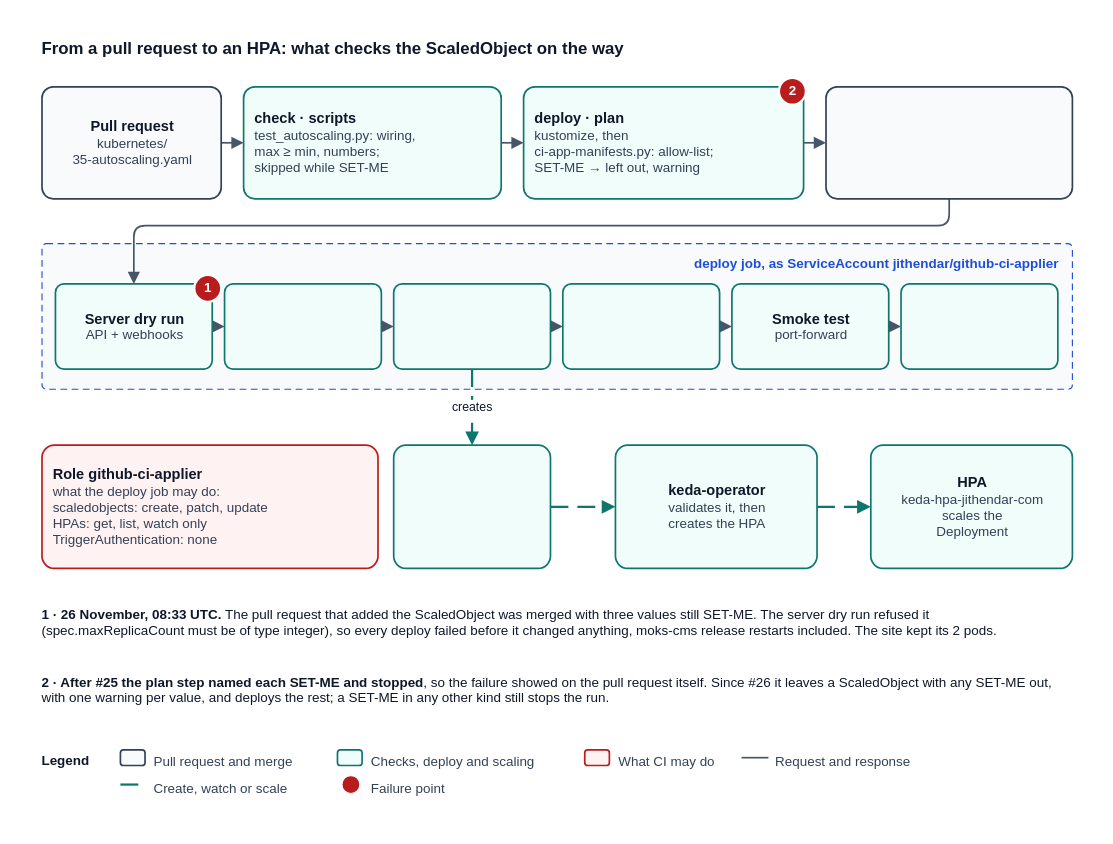
The diagram is 1113 pixels wide and 844 high, and some of its shapes have lost their labels. The shapes that lost their labels are listed below. From the top down, each one's centre as x and y in pixels, then its label:
At point (949, 142): "Merged to master the deploy job starts (also: manual run, moks-cms release)".
At point (302, 326): "kubectl diff shows changes".
At point (471, 326): "kubectl apply site, seo-agent".
At point (640, 326): "rollout restart and wait".
At point (979, 326): "crewconfig restore".
At point (471, 506): "ScaledObject jithendar-com on mk4".
